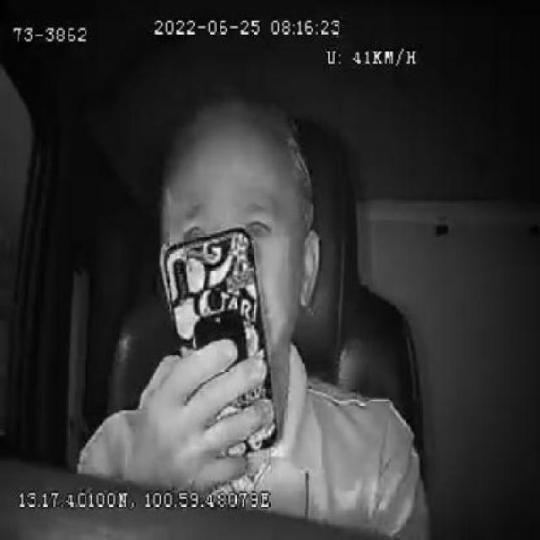phone: (164, 227, 276, 456)
